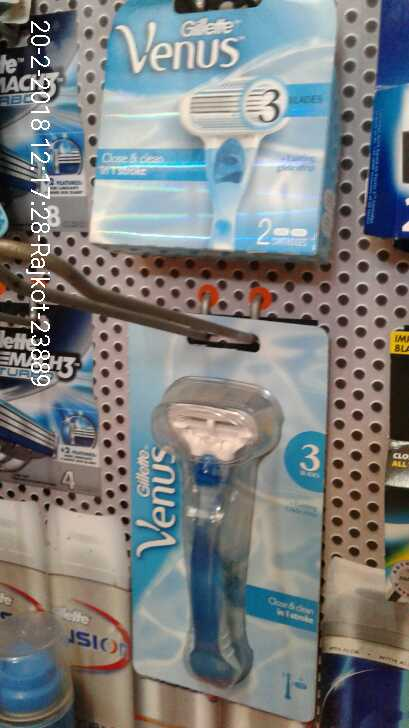venus: (115, 306, 333, 717), (99, 1, 337, 264)
